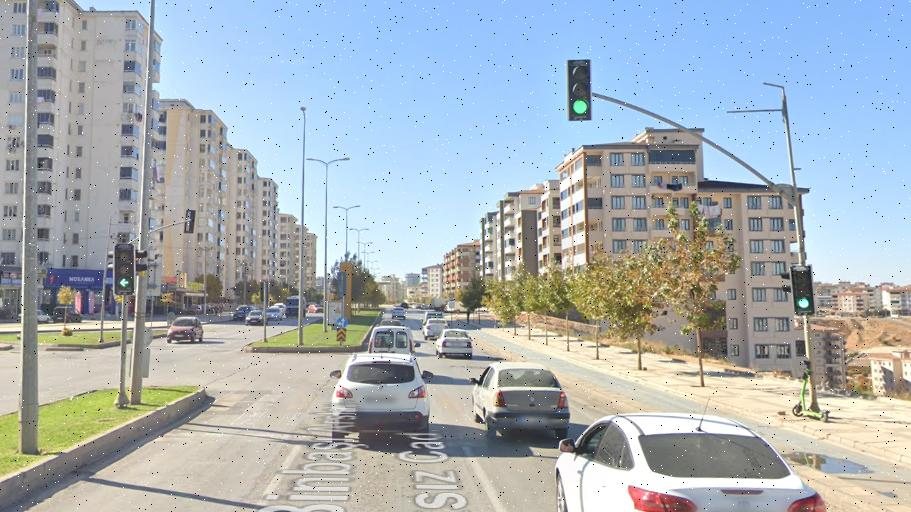greenlight: (567, 57, 591, 120), (111, 242, 137, 298), (789, 265, 815, 317)
